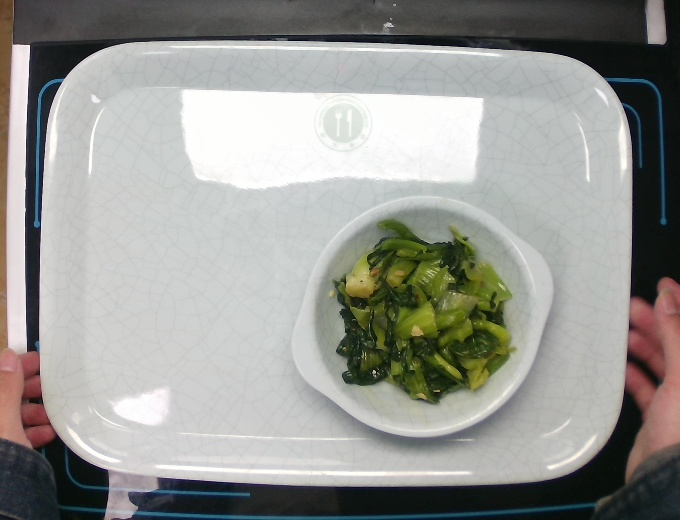JYsf-Shuang_Er_Wan: (286, 192, 559, 443)
